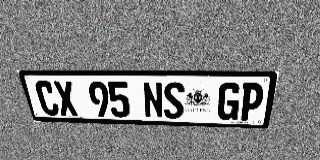5: (107, 81, 131, 118)
9: (87, 81, 112, 117)
C: (33, 81, 61, 116)
G: (217, 83, 242, 120)
N: (142, 82, 164, 118)
P: (238, 83, 265, 121)
S: (163, 82, 184, 119)
X: (52, 81, 79, 116)
